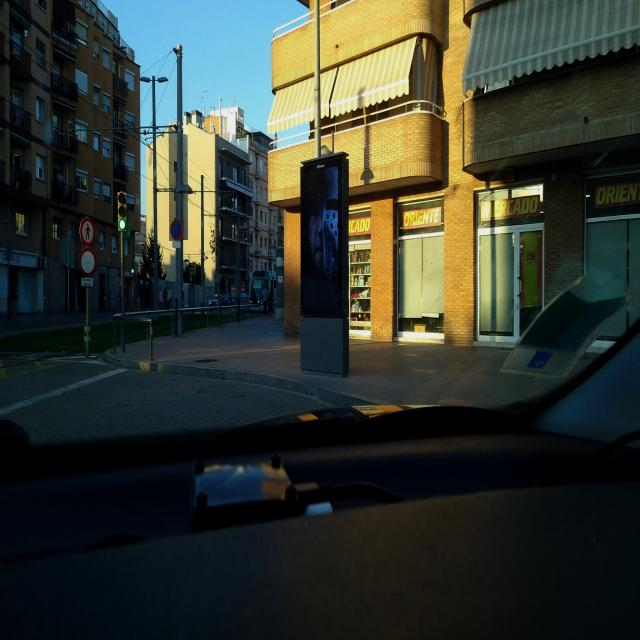car: (206, 294, 232, 308)
